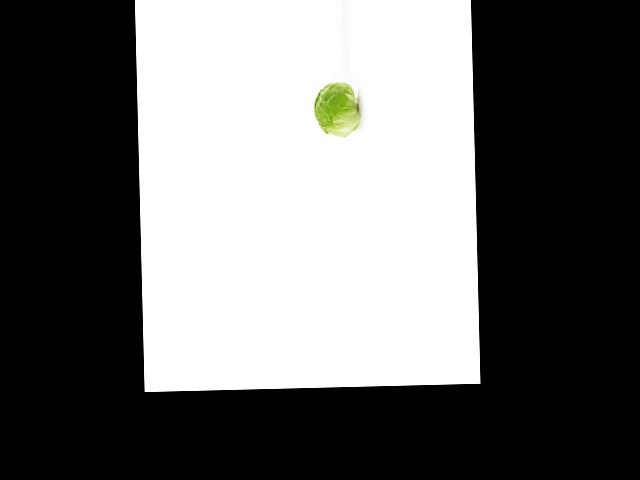lettuce: (311, 75, 357, 138)
